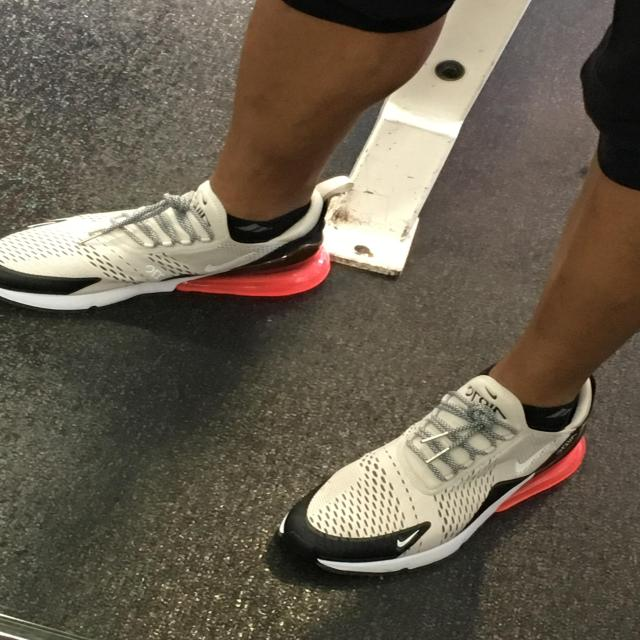shoe: (280, 356, 598, 578), (1, 174, 350, 310)
